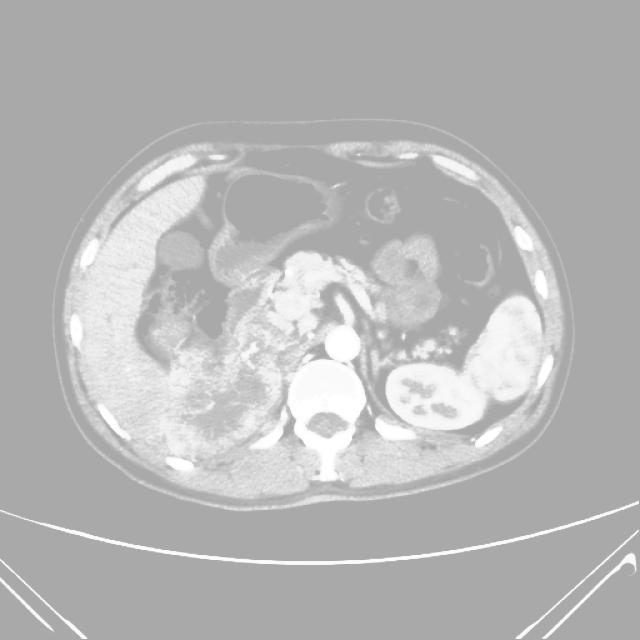TUMOR: (109, 161, 545, 420)
